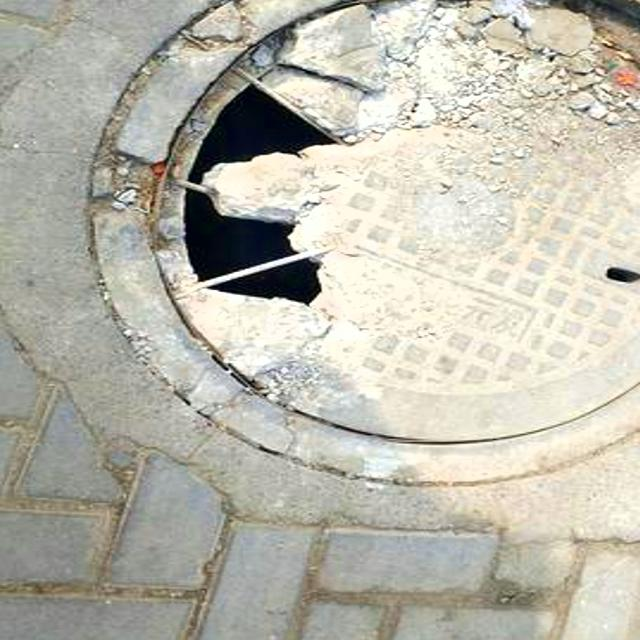broke: (59, 0, 640, 540)
